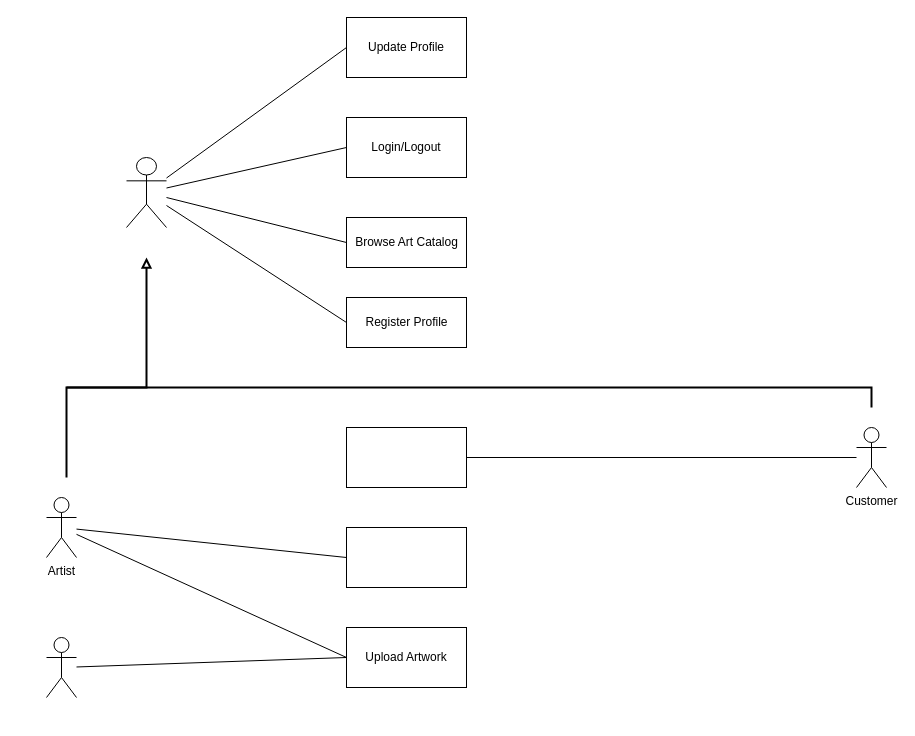
This 915x736 diagram has some shape labels left out. The shapes that lost their labels are listed below. From the top down, each one's centre as x and y in pixels, then its label:
At point 146,192: "User".
At point 406,457: "Buy Artwork".
At point 406,557: "Sell Artwork".
At point 61,667: "Service Provider".
